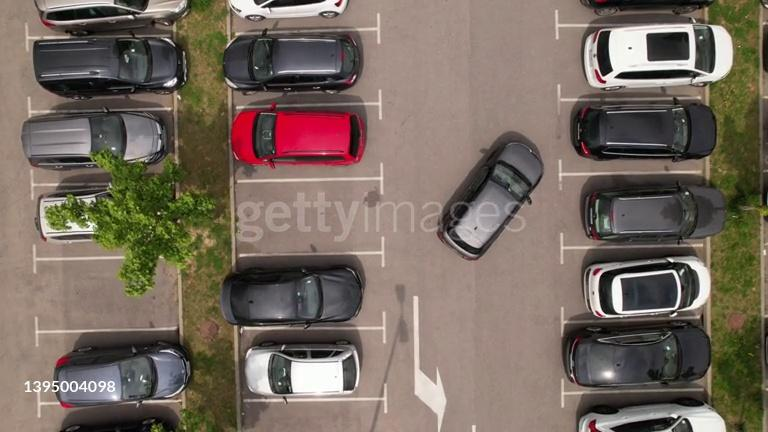car: (437, 138, 543, 258), (583, 20, 733, 89), (31, 36, 185, 98), (566, 324, 711, 387), (52, 342, 191, 407), (220, 265, 364, 326), (21, 110, 168, 168), (573, 101, 717, 160), (583, 181, 724, 241), (223, 32, 361, 92), (582, 255, 711, 317), (232, 113, 364, 166), (243, 340, 361, 396), (577, 397, 728, 430), (34, 0, 189, 32), (35, 184, 116, 241), (227, 0, 347, 22), (579, 0, 714, 16), (57, 415, 173, 432), (41, 173, 116, 199), (739, 190, 768, 219), (756, 317, 767, 374), (756, 17, 767, 72), (763, 22, 768, 70), (763, 167, 768, 210), (764, 329, 768, 370), (756, 0, 768, 13), (762, 0, 768, 11)
